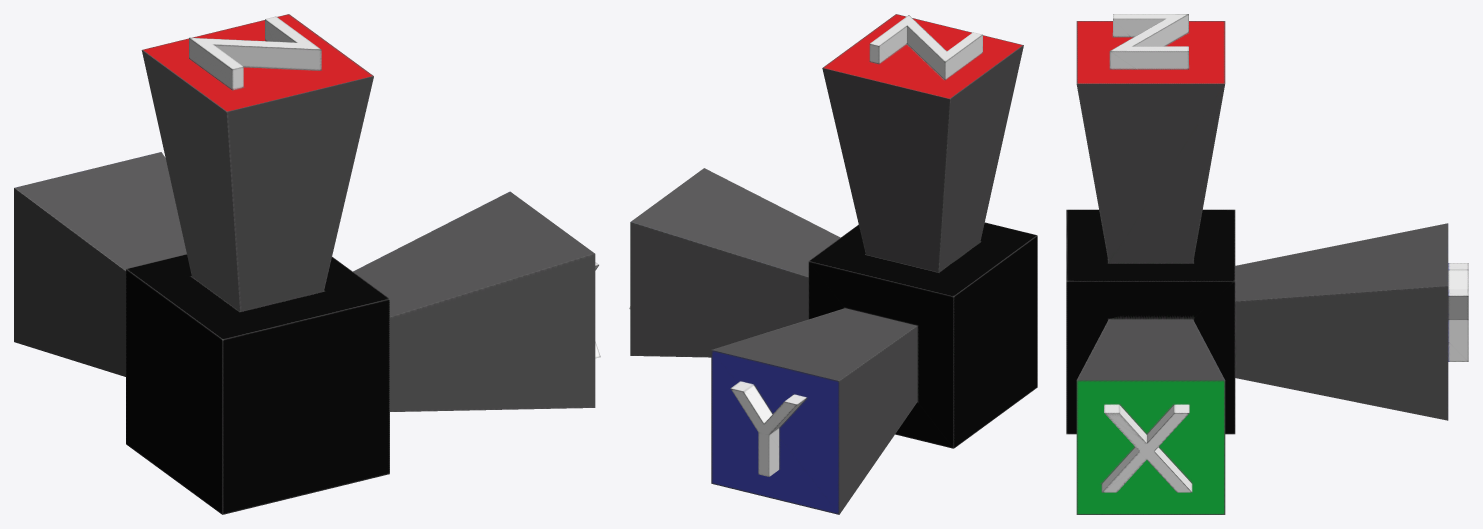
File: example_controller.obj
3 views of the same model, side by side, from view 1: azimuth 30°, elevation 25°; view 2: azimuth 150°, elevation 25°; view 3: azimuth 270°, elevation 25° (orthographic). The views are drawn at different scales.
Bounding box in the file's own units: 0.1536 × 0.1536 × 0.1536.
